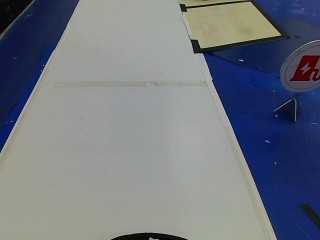battery: (282, 44, 318, 93)
